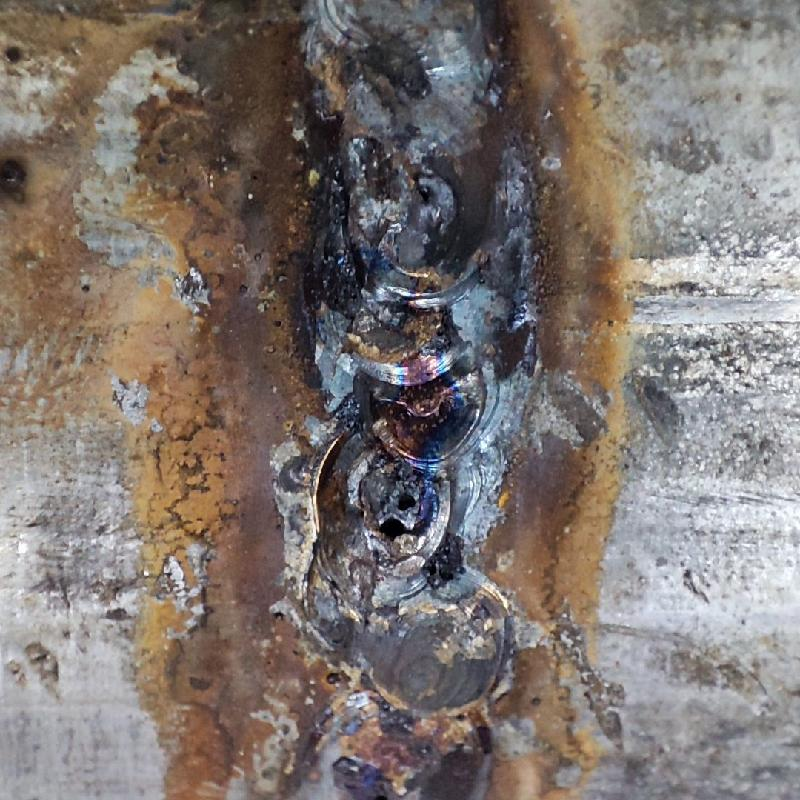Not_fully_soldered: (299, 2, 503, 230)
Surface_pores: (368, 465, 436, 549)
crater: (313, 232, 495, 555)
